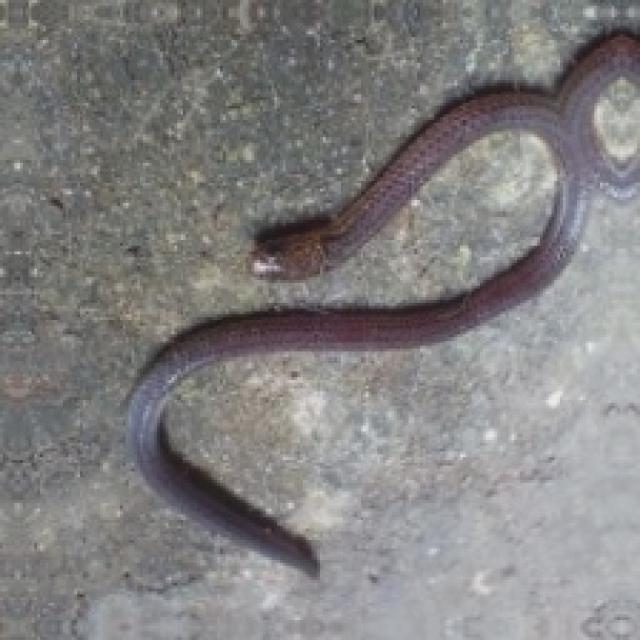gervais worm snake: (129, 31, 637, 574)
